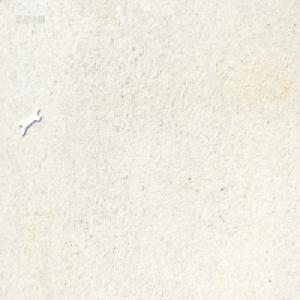Wrench: (19, 103, 42, 134)
